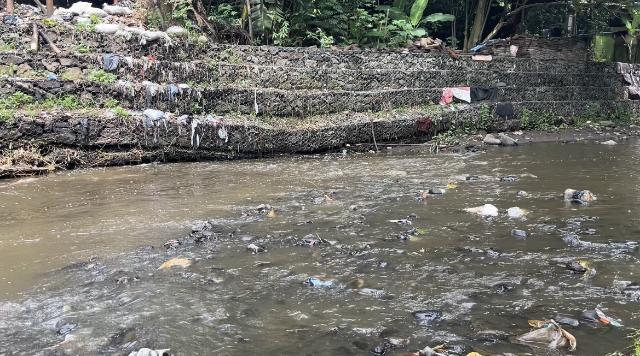Sampah Anorganik: (513, 316, 575, 353), (43, 332, 99, 354), (592, 309, 630, 332), (561, 187, 594, 205), (462, 204, 499, 216), (307, 277, 334, 288), (507, 207, 525, 219), (385, 219, 412, 227), (447, 184, 456, 188)
Sampah Organik: (402, 228, 428, 243), (160, 259, 192, 269), (575, 259, 592, 272), (163, 239, 180, 249), (322, 195, 333, 203), (267, 210, 277, 218), (421, 191, 428, 199)
